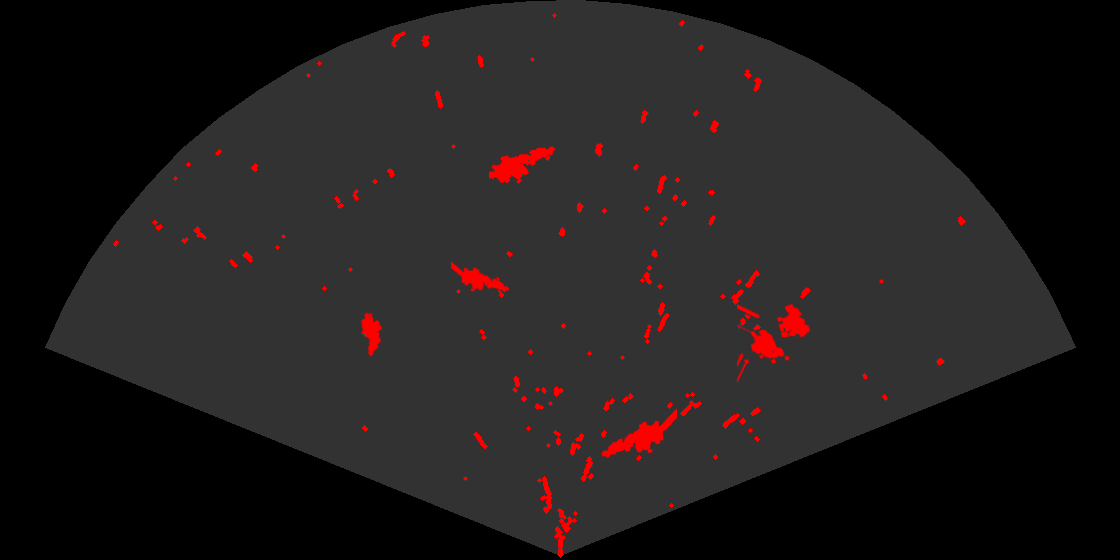AUV: (359, 311, 384, 358)
cage: (737, 302, 812, 384)
frogman: (600, 407, 677, 459), (489, 145, 557, 186), (451, 260, 511, 294)
